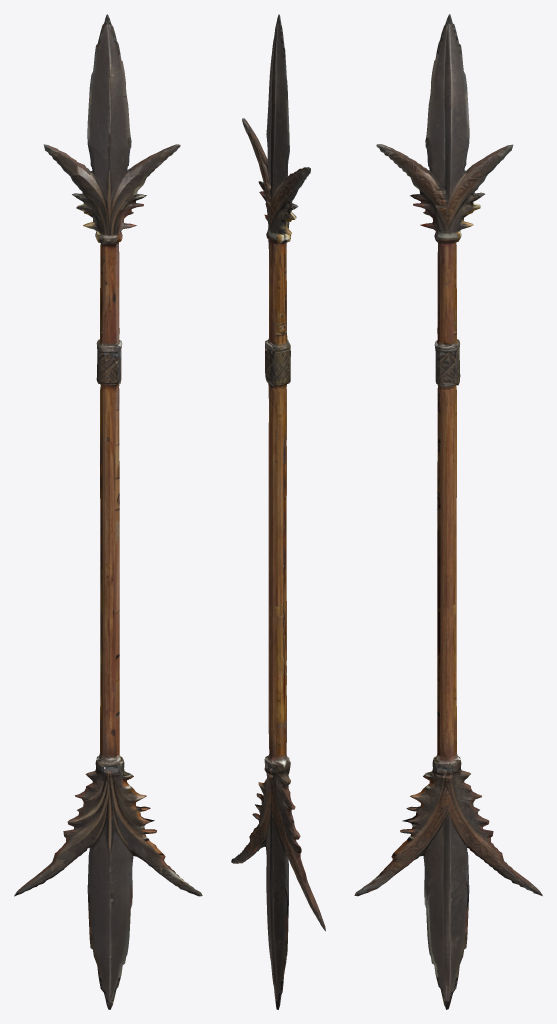
File: Double_Ended_Lance_0411061623_texture.fbx
3 renders of one model, left to right at view 1: azimuth 90°, elevation 25°; view 2: azimuth 210°, elevation 25°; view 3: azimuth 270°, elevation 25°, orthographic.
Visible parts, largest first — view 1: temp; view 2: temp; view 3: temp.
Part boxes in pixels (x1,y1,x2,y2): temp: [14, 14, 202, 1009]; temp: [231, 14, 325, 1009]; temp: [354, 14, 542, 1009].
Bounding box in the file's own units: 4.41 × 199 × 34.18.
Materials: 1 (1 with a texture image).
